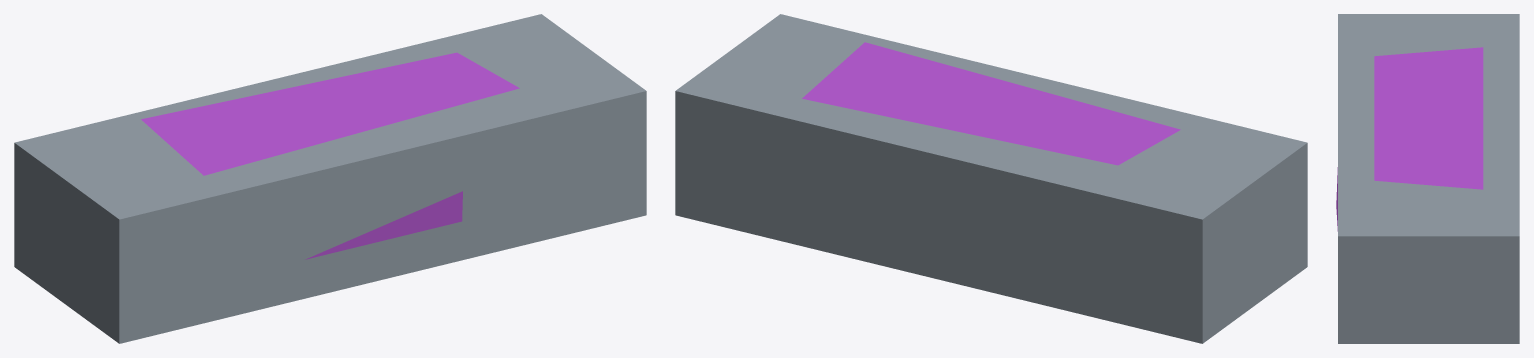
File: CH_IsobathFrigate_LOD1.glb
The picture shows the model from 3 angles, left to right: view 1: azimuth 30°, elevation 25°; view 2: azimuth 150°, elevation 25°; view 3: azimuth 270°, elevation 25°; orthographic projection. The views are drawn at different scales.
Parts seen in each view (by area): view 1: EntranceGate; view 2: EntranceGate; view 3: EntranceGate.
Part boxes in pixels (box(x1,y1,x2,y2)): EntranceGate: box(14, 14, 646, 343); EntranceGate: box(675, 14, 1307, 343); EntranceGate: box(1336, 14, 1519, 343).
Size of the model in its own units: 1100 by 274 by 383.
